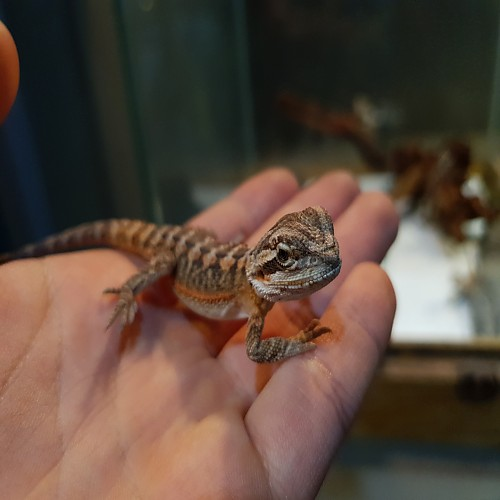bearded: (1, 206, 344, 366)
